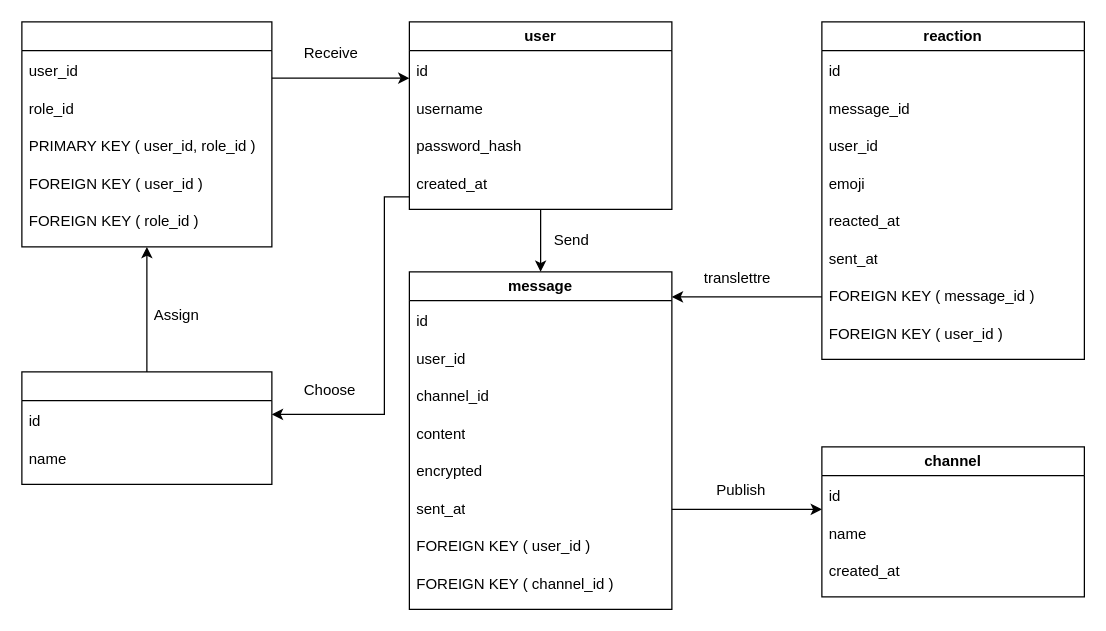
The diagram is 1106 pixels wide and 631 high, and some of its shapes have lost their labels. Here are the shapes that lost their labels. From the top down, the box of each, then its label:
(21, 21, 272, 247): user_role
(21, 371, 272, 484): role
